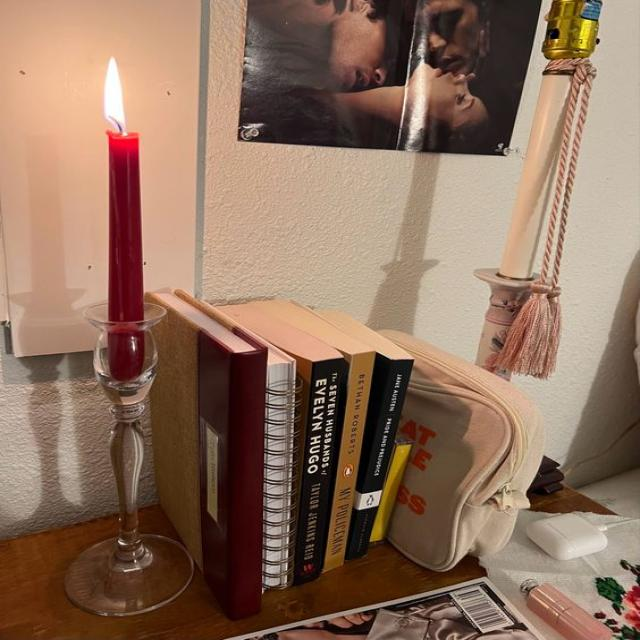book: (249, 300, 374, 570), (325, 313, 412, 559), (275, 321, 344, 586), (230, 351, 264, 616)
candle: (84, 46, 162, 417)
